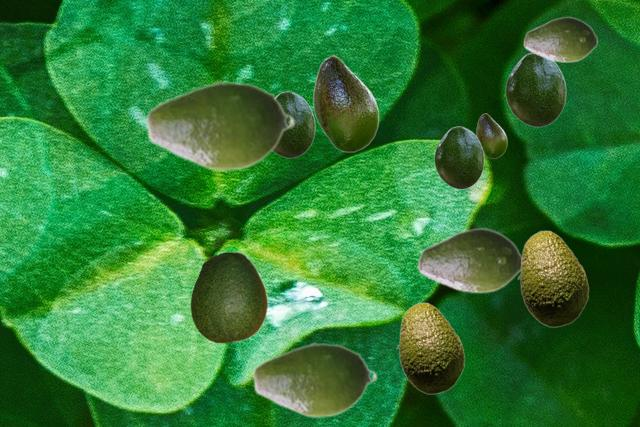avocado: (144, 79, 295, 172), (251, 341, 377, 418), (190, 251, 267, 342), (417, 227, 521, 293), (517, 230, 588, 326), (313, 55, 378, 151), (396, 302, 464, 393), (505, 52, 565, 126), (523, 16, 597, 62), (434, 126, 483, 188), (274, 91, 314, 157), (476, 113, 506, 157)
